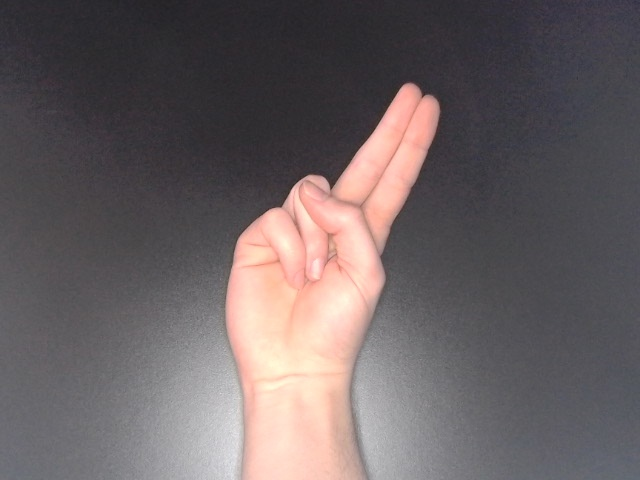u: (216, 78, 444, 419)
